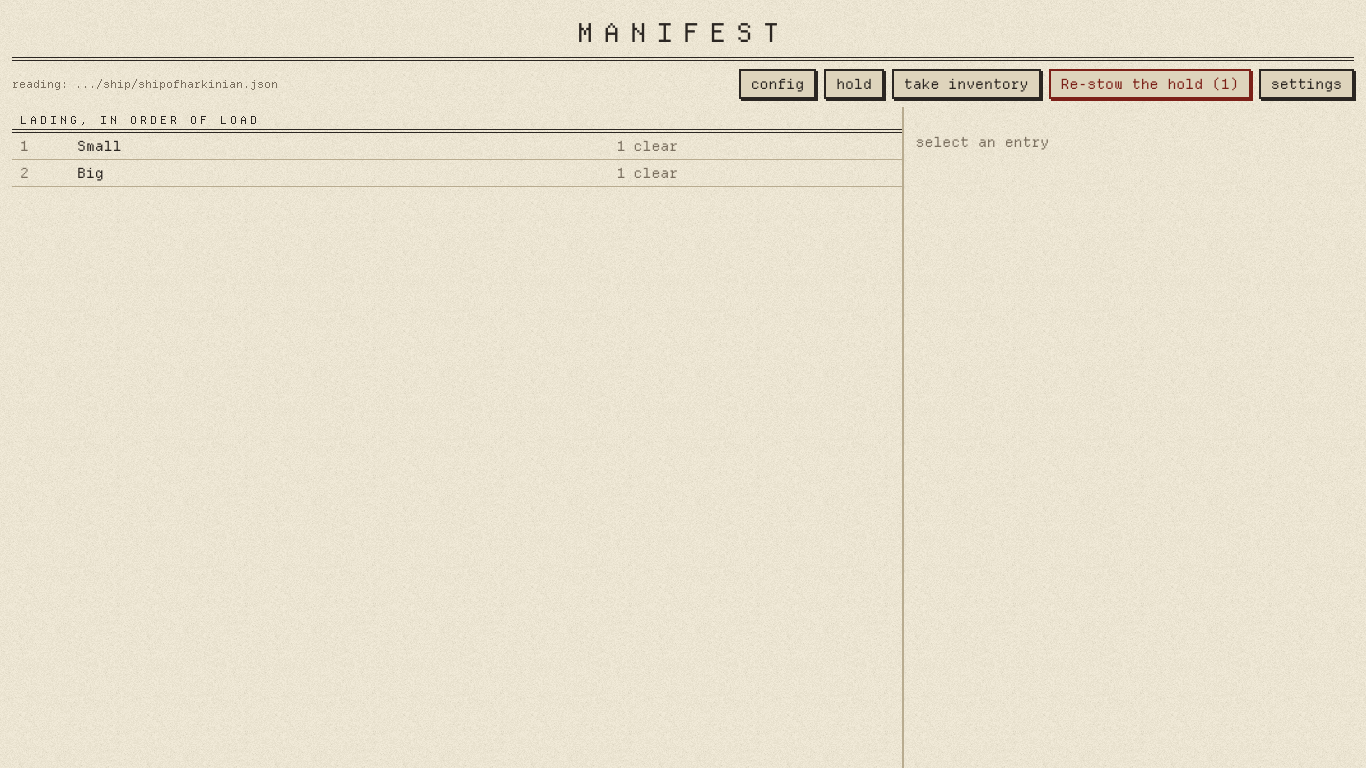
Scenario: App › shows the error page when the config picker fails
Expected: the button "Re-stow the hold (1)" is shown, [1048,69,1251,99]
Click the button "config": point(777, 84) [739,69,816,99]
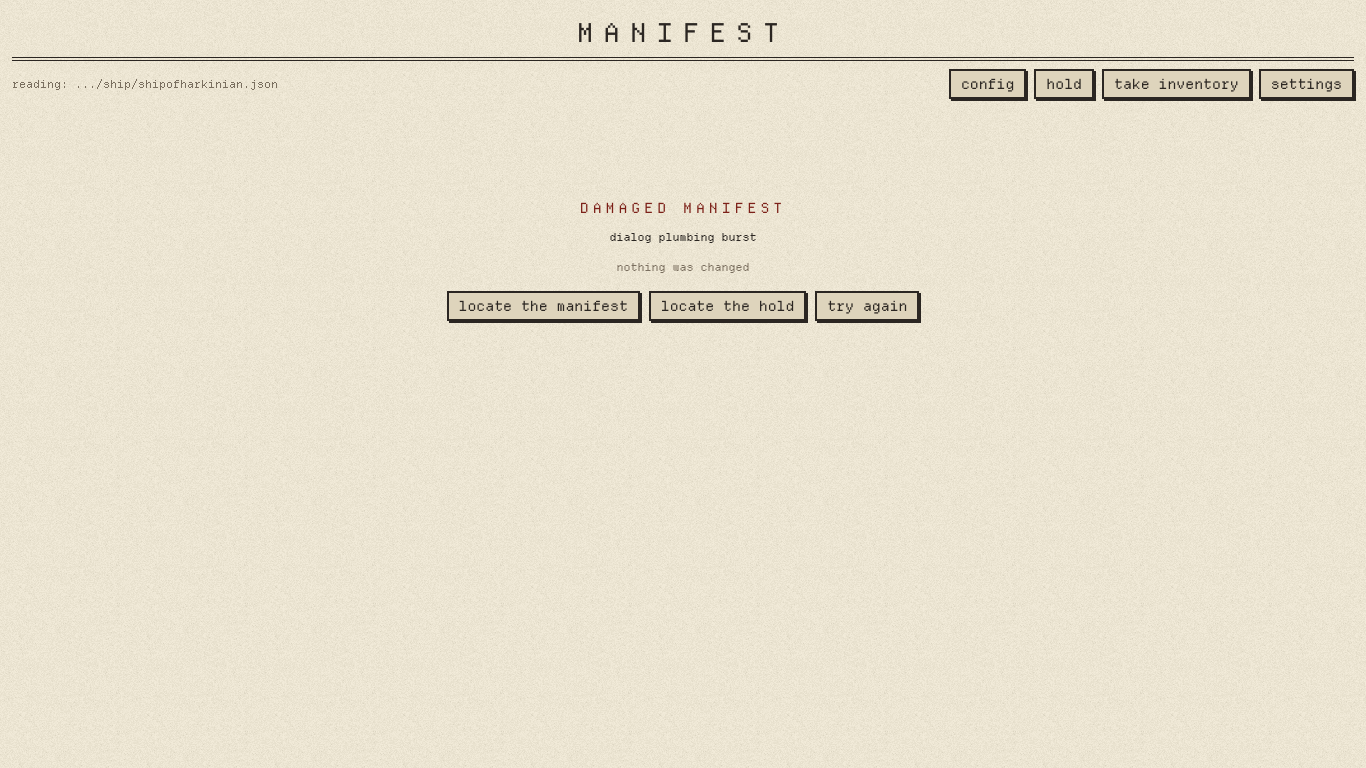
Expected: the text "DAMAGED MANIFEST" is shown, [580,199,786,217]
Expected: the text "dialog plumbing burst" is shown, [610,230,756,244]
